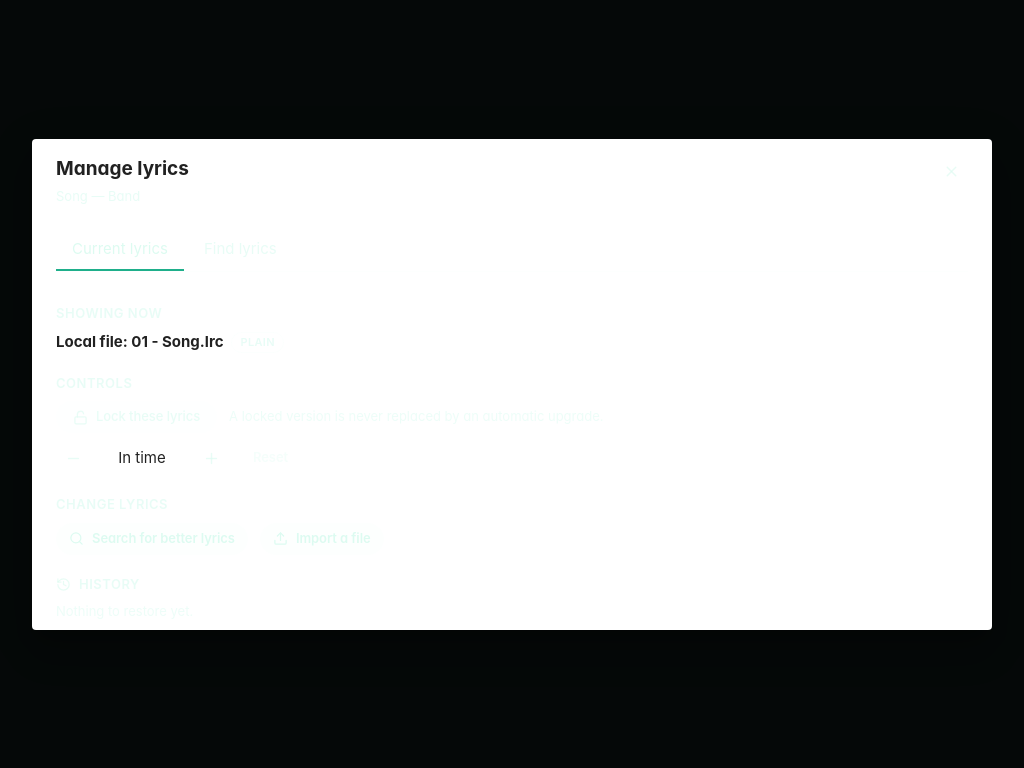
Test: <LyricsManager /> › finding and choosing lyrics › lists candidates with provider, quality, match and what they carry
The image size is (1024, 768).
Step 1. Click the button "Search for better lyrics" → (152, 538), box [56,522,248,554]
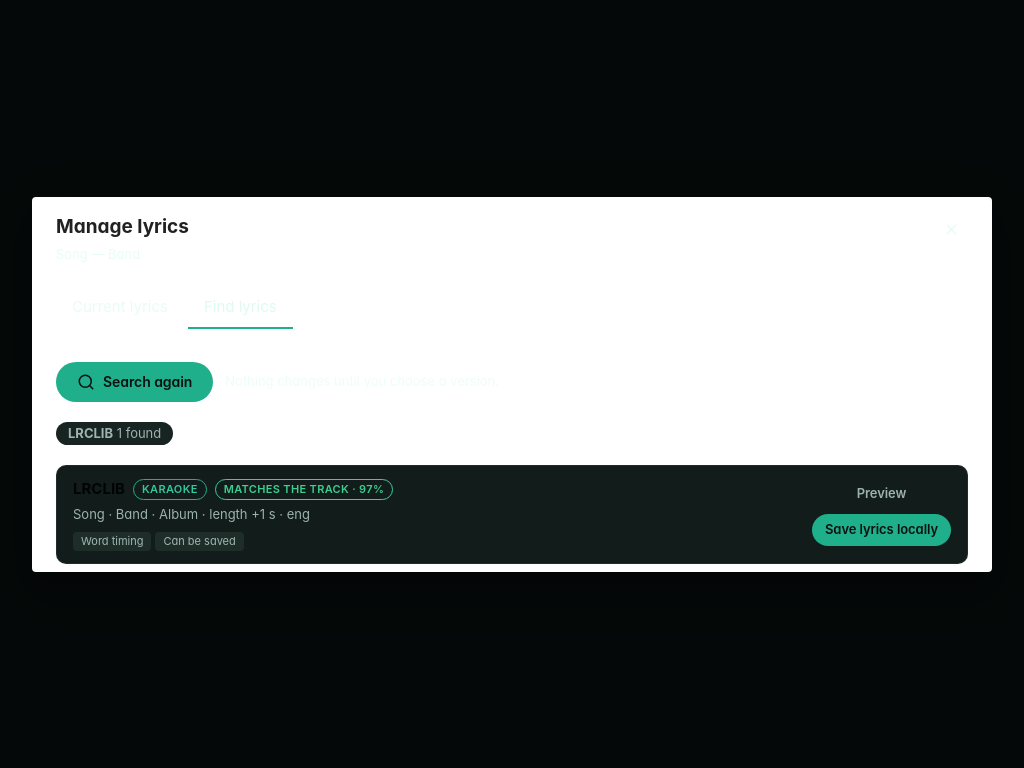
Expected: the text "Matches the track · 97%" is shown, [215,479,393,500]
Expected: the text "Karaoke" is shown, [133,479,207,500]
Expected: the text "Word timing" is shown, [73,532,152,550]
